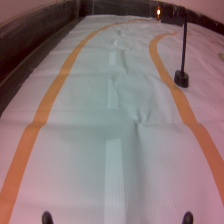yellow: (153, 1, 191, 91)
